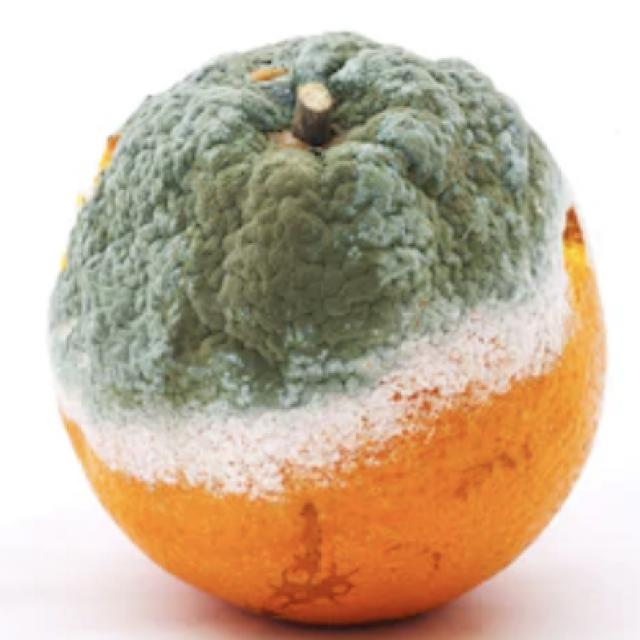rotten-orange: (51, 31, 608, 630)
